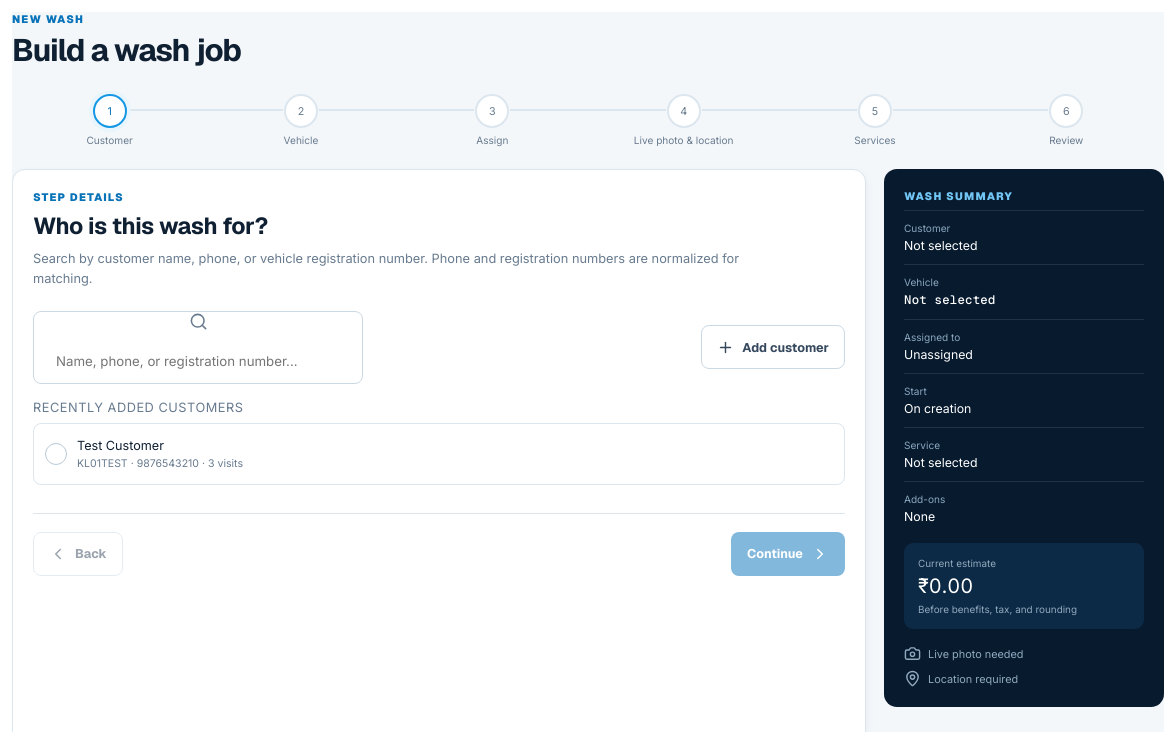
Test: New Wash — customer registration search › selecting a registration-matched customer continues the wizard
Click the button "Test Customer" at point(120, 445), box left=33, top=423, right=845, bottom=485
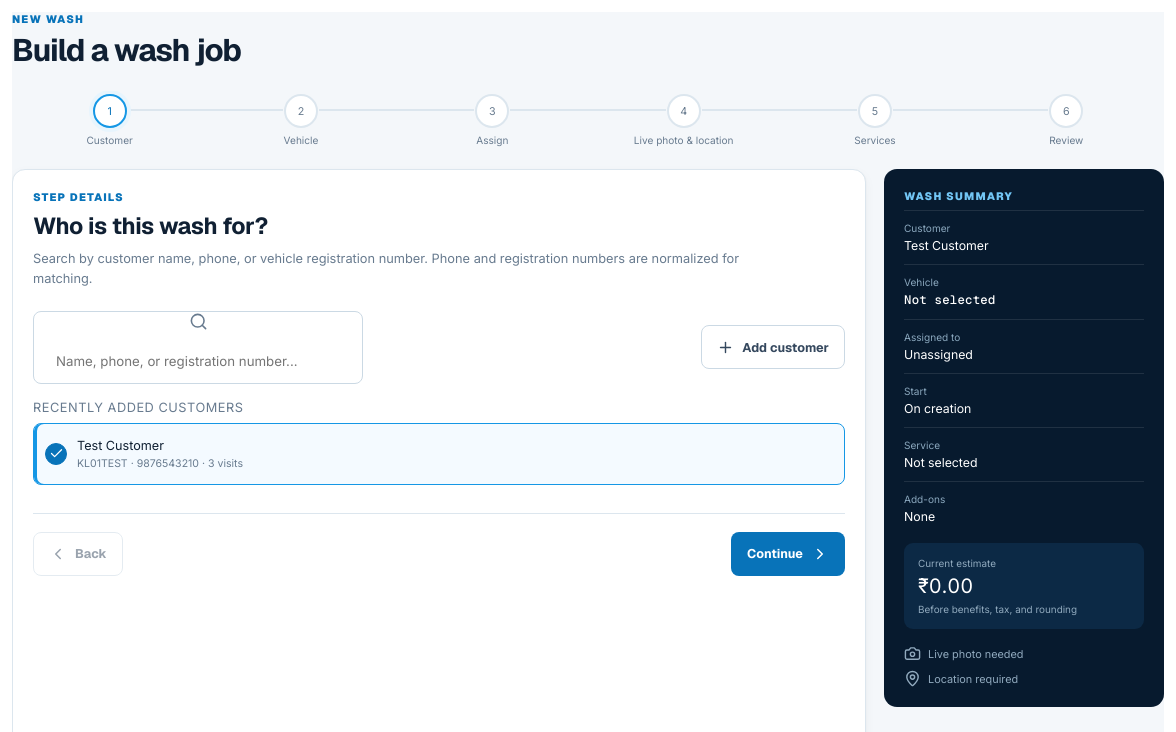
Now the button "Continue" is enabled
Click the button "Continue" at point(788, 554), box left=731, top=532, right=845, bottom=576
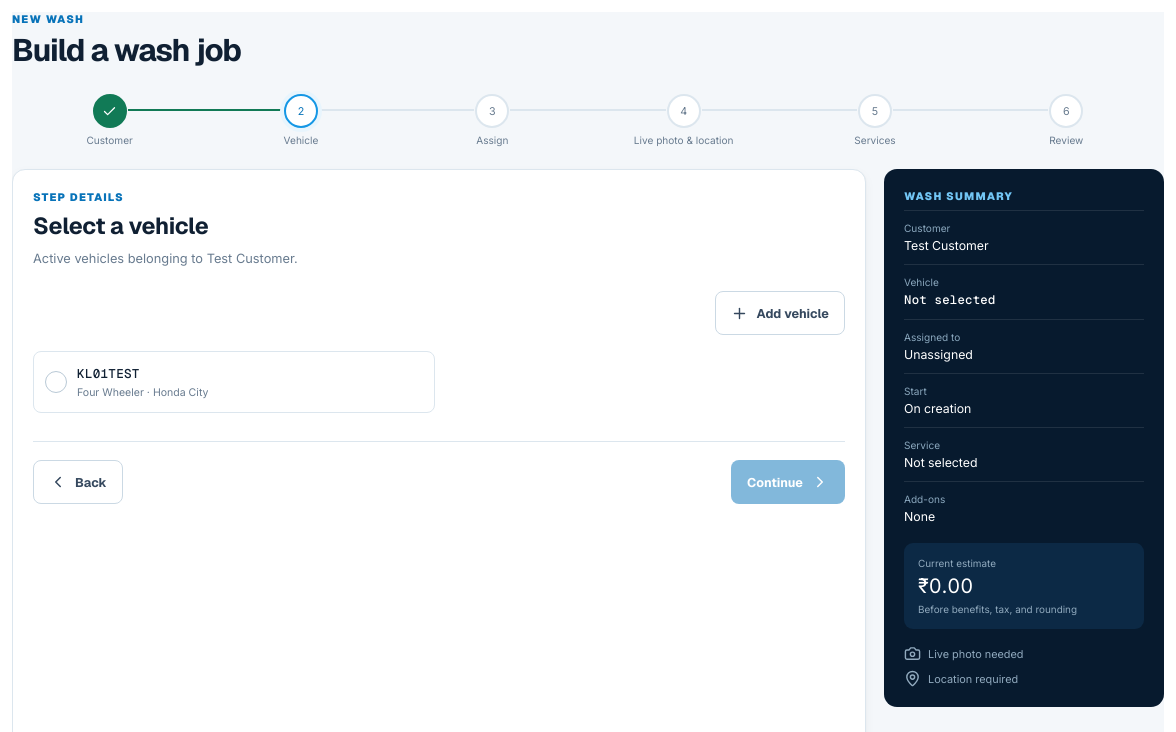
Now the heading "Select a vehicle" is shown, box left=33, top=211, right=208, bottom=241
